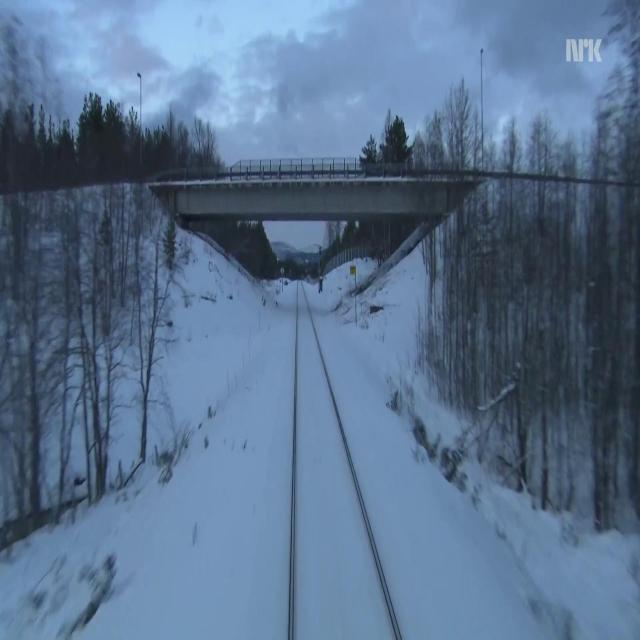rail-track: (294, 278, 397, 639)
